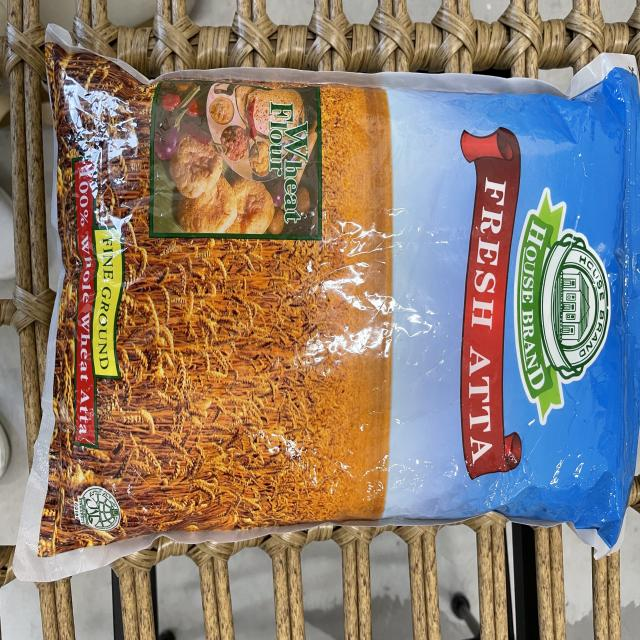object_name: (48, 63, 618, 545)
